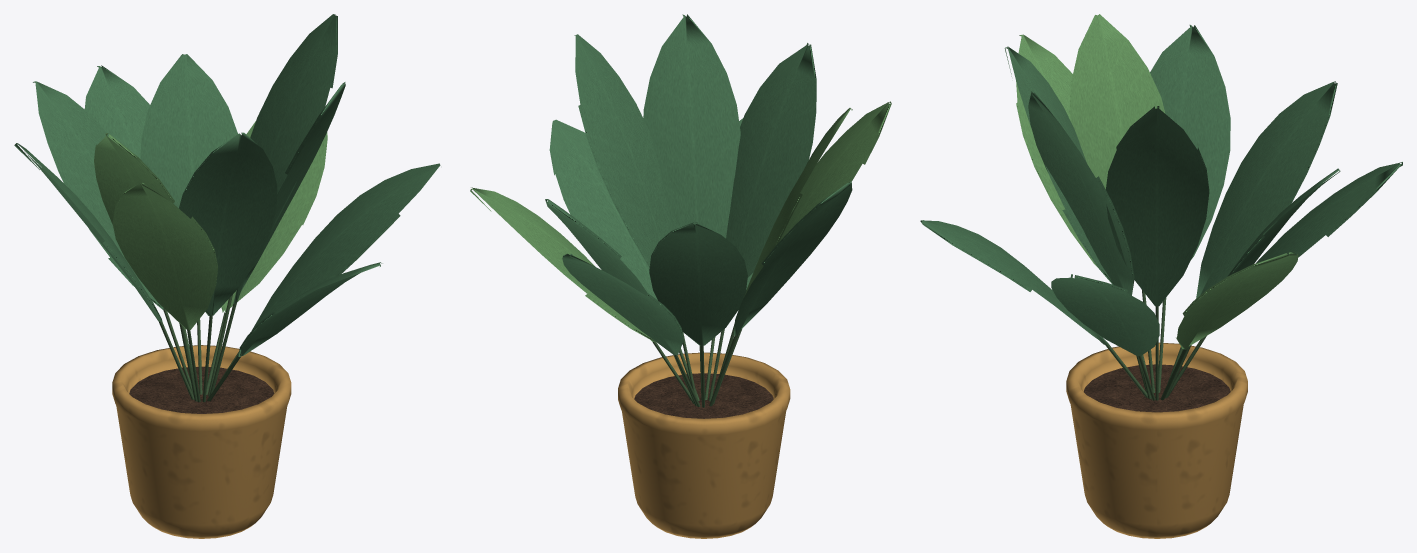
File: plant_medium.glb
3 views of the same model, side by side, from view 1: azimuth 30°, elevation 25°; view 2: azimuth 150°, elevation 25°; view 3: azimuth 270°, elevation 25° (orthographic). The views are drawn at different scales.
Visible parts, largest first — view 1: Pot, Leaf7, Leaf2, Leaf11, Leaf9, Leaf1, Leaf8, Soil, Leaf3, Leaf6, Leaf10, Leaf4 (+2 smaller); view 2: Pot, Leaf4, Leaf7, Leaf1, Leaf8, Leaf9, Leaf5, Soil, Leaf2, Leaf3, Leaf6, Leaf11 (+1 smaller); view 3: Pot, Leaf1, Leaf8, Leaf10, Leaf5, Leaf4, Leaf9, Leaf6, Soil, Leaf3, Leaf12, Leaf2 (+2 smaller).
Part boxes in pixels (left/top/right/bottom): Pot: left=112, top=345, right=291, bottom=538; Leaf7: left=179, top=132, right=277, bottom=315; Leaf2: left=112, top=182, right=217, bottom=329; Leaf11: left=140, top=54, right=237, bottom=208; Leaf9: left=251, top=163, right=440, bottom=330; Leaf1: left=250, top=14, right=337, bottom=230; Leaf8: left=33, top=81, right=163, bottom=309; Soil: left=129, top=366, right=274, bottom=413; Leaf3: left=84, top=65, right=149, bottom=158; Leaf6: left=221, top=121, right=327, bottom=312; Leaf10: left=94, top=133, right=174, bottom=224; Leaf4: left=233, top=82, right=345, bottom=303; Pot: left=618, top=352, right=790, bottom=538; Leaf4: left=643, top=14, right=740, bottom=238; Leaf7: left=726, top=43, right=816, bottom=277; Leaf1: left=574, top=34, right=672, bottom=267; Leaf8: left=649, top=222, right=747, bottom=345; Leaf9: left=549, top=119, right=657, bottom=300; Leaf5: left=733, top=181, right=852, bottom=335; Soil: left=634, top=373, right=773, bottom=418; Leaf2: left=779, top=101, right=891, bottom=241; Leaf3: left=562, top=253, right=683, bottom=355; Leaf6: left=470, top=187, right=655, bottom=342; Leaf11: left=545, top=199, right=647, bottom=295; Pot: left=1066, top=342, right=1247, bottom=538; Leaf1: left=1105, top=106, right=1209, bottom=306; Leaf8: left=1196, top=81, right=1337, bottom=298; Leaf10: left=1069, top=14, right=1165, bottom=189; Leaf5: left=1150, top=25, right=1230, bottom=259; Leaf4: left=1028, top=91, right=1134, bottom=295; Leaf9: left=1051, top=274, right=1159, bottom=356; Leaf6: left=1176, top=252, right=1298, bottom=349; Soil: left=1083, top=364, right=1230, bottom=412; Leaf3: left=1256, top=162, right=1402, bottom=263; Leaf12: left=920, top=220, right=1107, bottom=346; Leaf2: left=1016, top=34, right=1097, bottom=267.
Size of the model in its own units: 0.7416 by 0.9 by 0.8299.
Materials: 5 (5 with a texture image).
